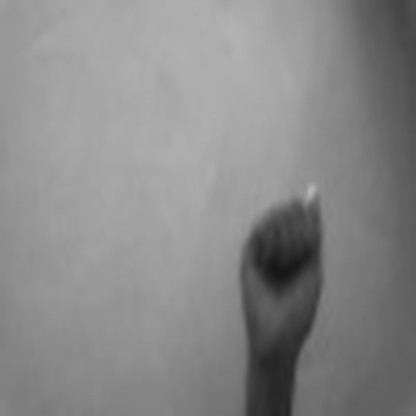a: (236, 183, 333, 351)
